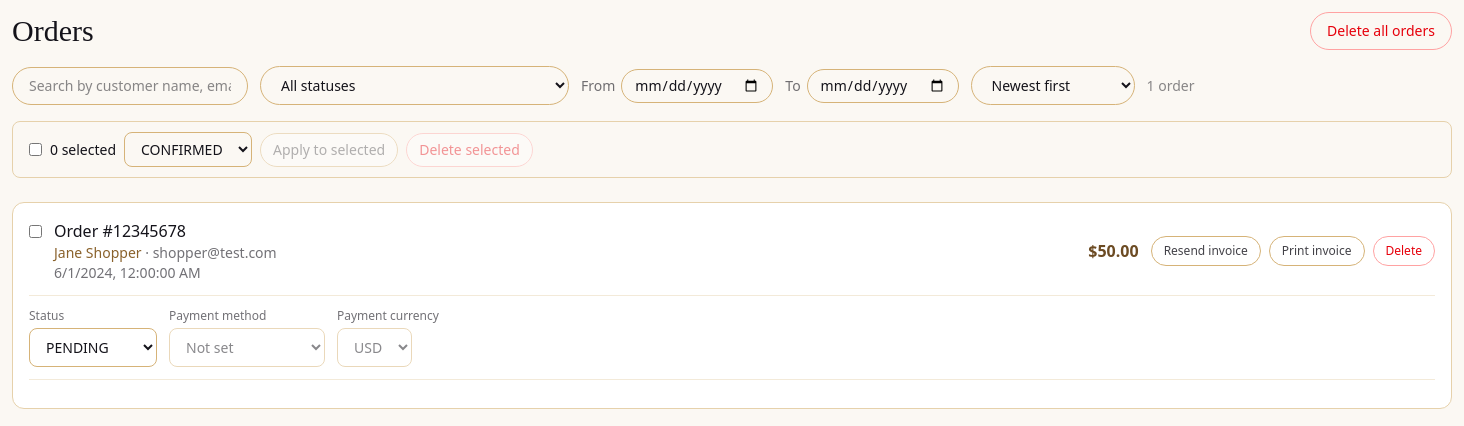
Test: AdminOrders › locks the payment fields again once CONFIRMED is actually saved (order.status catches up)
This screenshot has width=1464, height=426.
Check: the link "Jane Shopper" is shown, box x1=54 y1=243 x2=142 y2=262
Select "CONFIRMED" in the dropdown labelled "Status" at (93,348), box x1=29 y1=328 x2=157 y2=367
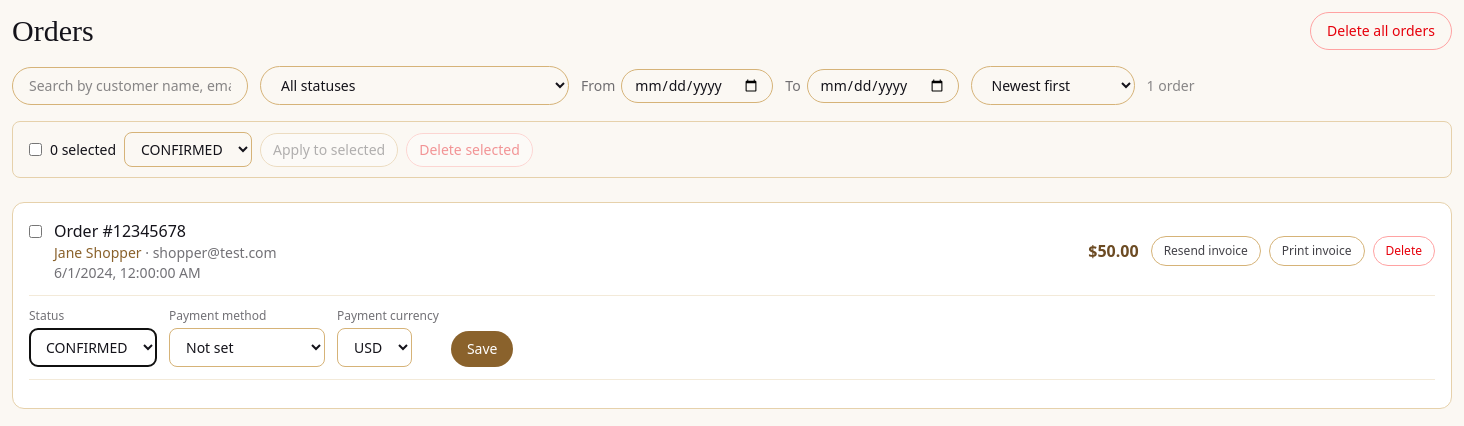
Check: the dropdown labelled "Payment method" is enabled, box x1=169 y1=328 x2=325 y2=367
Click the button "Save" at (482,349), box x1=451 y1=331 x2=514 y2=367
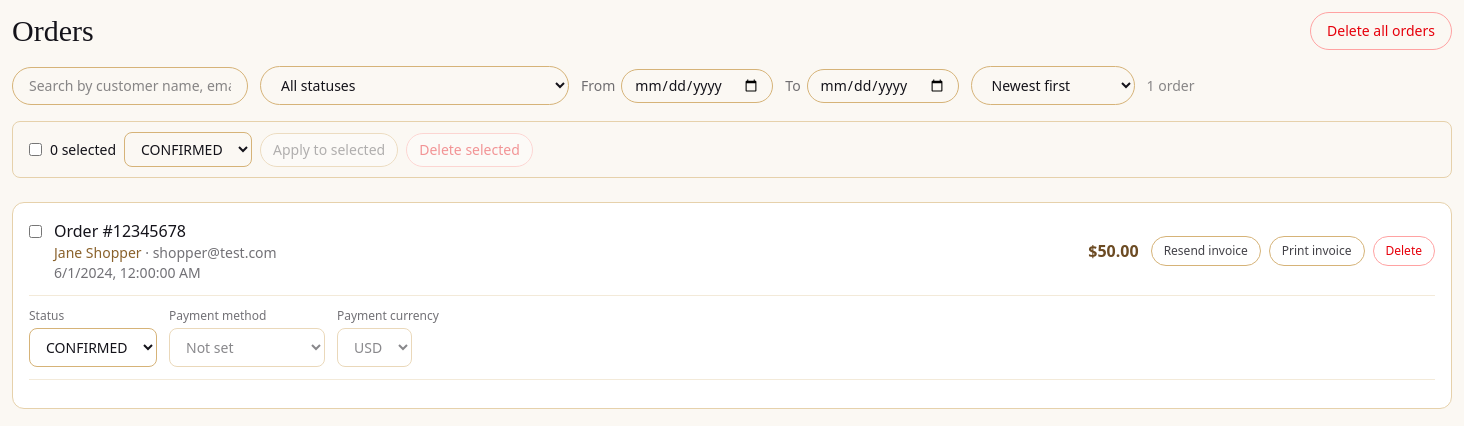
Check: the dropdown labelled "Payment method" is disabled, box x1=169 y1=328 x2=325 y2=367
